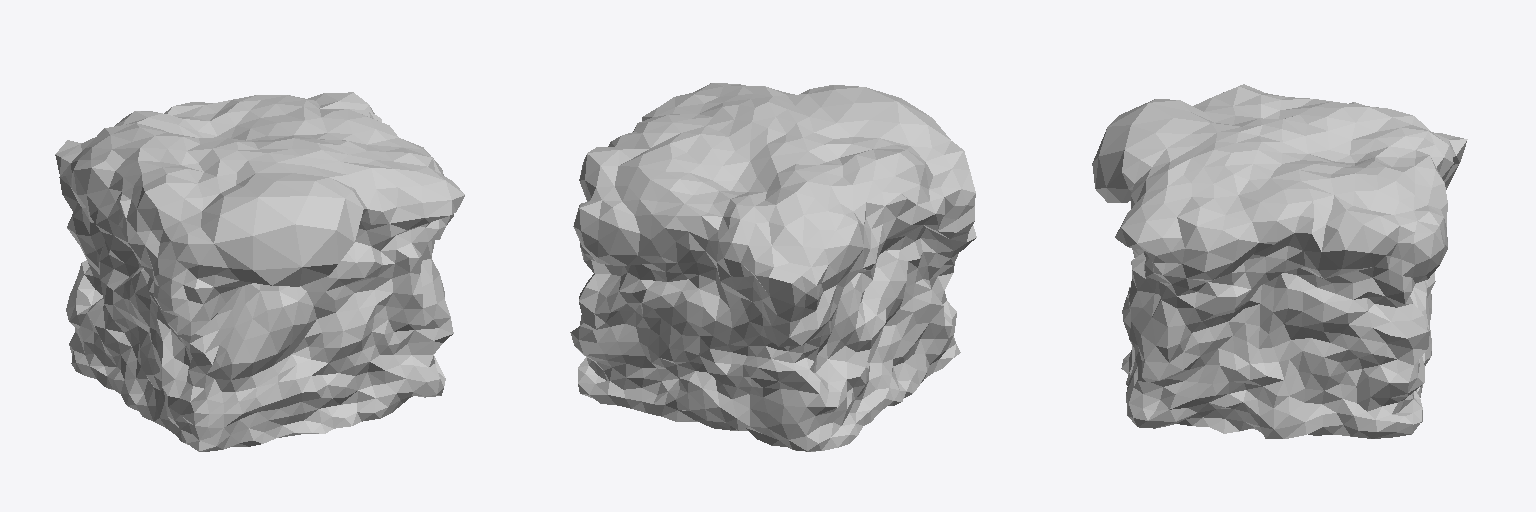
File: body.obj
3 views of the same model, side by side, from view 1: azimuth 30°, elevation 25°; view 2: azimuth 150°, elevation 25°; view 3: azimuth 270°, elevation 25° (orthographic).
Visible parts, largest first — view 1: Cube; view 2: Cube; view 3: Cube.
Part boxes in pixels (x1,y1,x2,y2): Cube: (55,92,464,451); Cube: (570,83,976,451); Cube: (1092,84,1467,438).
Size of the model in its own units: 2 by 1.52 by 2.12.